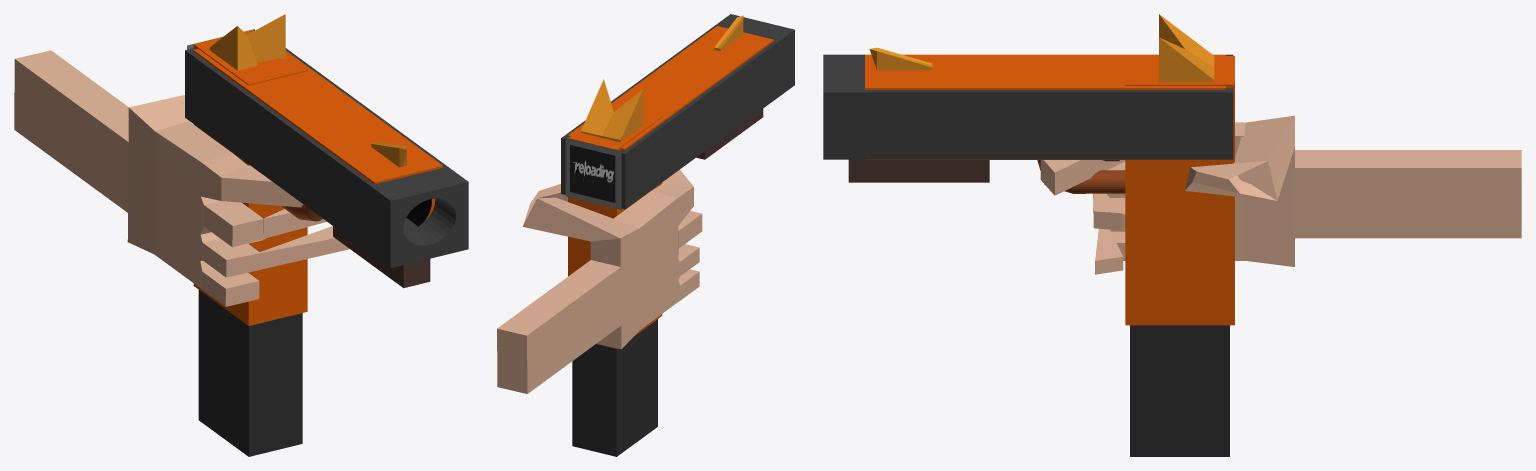
File: gun pistol realoading frame 1.fbx
The picture shows the model from 3 angles, left to right: view 1: azimuth 30°, elevation 25°; view 2: azimuth 150°, elevation 25°; view 3: azimuth 270°, elevation 25°; orthographic projection. The views are drawn at different scales.
Visible parts, largest first — view 1: Cube, Cube.005, Cube.004, Cube.001, Cube.002, Cube.006, Cube.003, Cube.007; view 2: Cube, Cube.005, Cube.004, Cube.001, Cube.006, Plane.001, Cube.002, Plane, Cube.003, Cube.007; view 3: Cube, Cube.005, Cube.002, Cube.004, Cube.001, Cube.003, Cube.006, Cylinder, Cube.007.
Boxes of the visible parts, x1,y1,x2,y2 form: Cube: (14,50,349,306); Cube.005: (185,48,468,267); Cube.004: (198,290,302,456); Cube.001: (193,49,442,220); Cube.002: (193,30,307,325); Cube.006: (209,14,285,70); Cube.003: (333,226,430,288); Cube.007: (371,142,406,167); Cube: (497,169,702,393); Cube.005: (561,14,794,209); Cube.004: (572,319,657,456); Cube.001: (568,26,773,150); Cube.006: (581,79,643,142); Plane.001: (570,145,615,202); Cube.002: (568,105,662,348); Plane: (565,138,621,209); Cube.003: (696,109,763,159); Cube.007: (714,15,743,51); Cube: (1040,115,1521,274); Cube.005: (823,54,1233,159); Cube.002: (1125,56,1234,325); Cube.004: (1130,325,1229,456); Cube.001: (865,54,1225,159); Cube.003: (848,159,989,182); Cube.006: (1159,14,1214,82); Cylinder: (1037,160,1125,193); Cube.007: (869,47,932,70).
Bounding box in the file's own units: 159 × 461 × 698.
10 materials, 1 textured.
